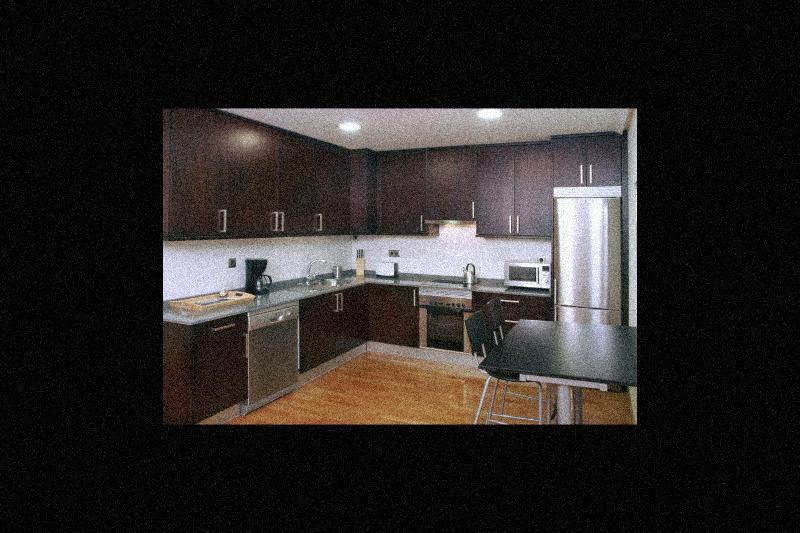Electrodomestico: (554, 197, 623, 324), (247, 307, 299, 392), (419, 282, 472, 357)
Lavaplatos: (294, 257, 353, 297)
